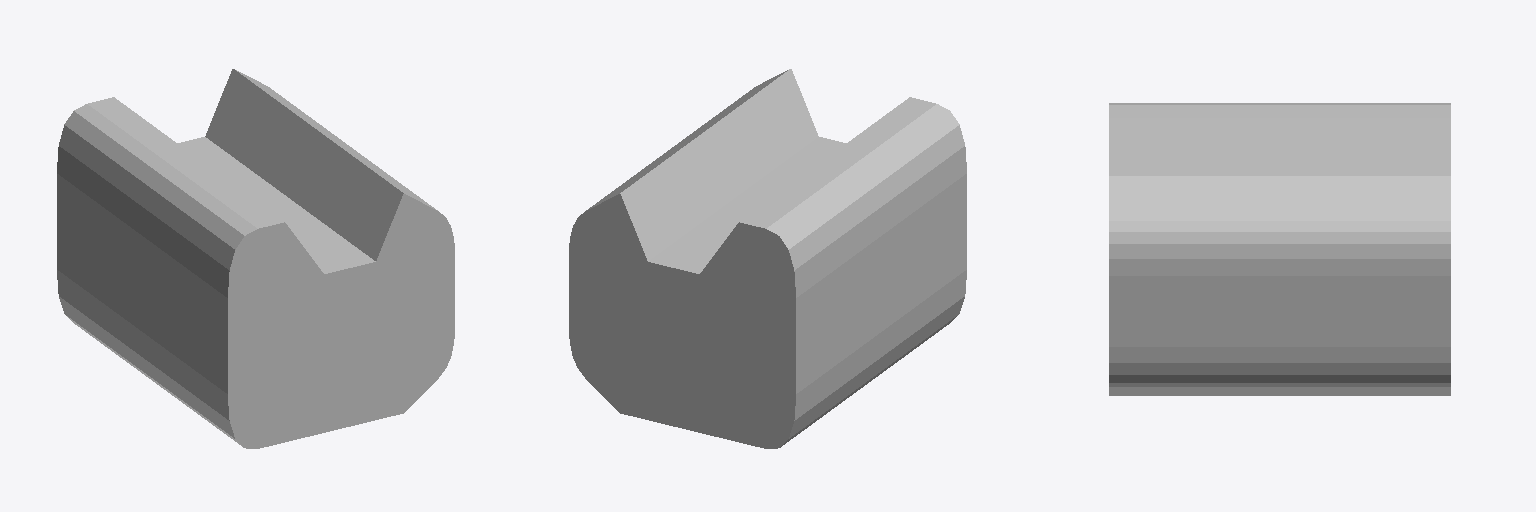
The model's file is RightFootPathIcon_1meter.obj.
3 views of the same model, side by side, from view 1: azimuth 30°, elevation 25°; view 2: azimuth 150°, elevation 25°; view 3: azimuth 270°, elevation 25° (orthographic).
Parts seen in each view (by area): view 1: 002; view 2: 002; view 3: 002.
Part boxes in pixels (bbox=[...]): 002: bbox=[57, 69, 454, 448]; 002: bbox=[569, 69, 966, 448]; 002: bbox=[1109, 103, 1450, 395].
Size of the model in its own units: 0.7699 by 0.712 by 1.